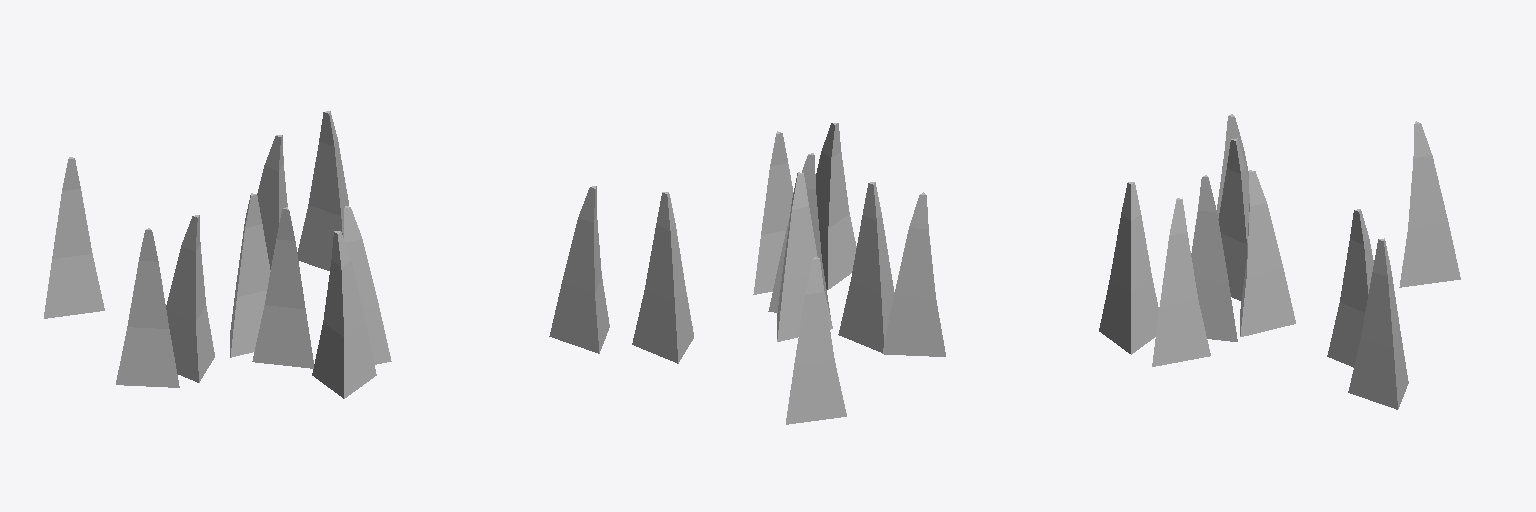
File: scene_leaves2.obj
3 views of the same model, side by side, from view 1: azimuth 30°, elevation 25°; view 2: azimuth 150°, elevation 25°; view 3: azimuth 270°, elevation 25° (orthographic).
Parts seen in each view (by area): view 1: Cylinder.010, Cylinder.003, Cylinder.008, Cylinder.006, Cylinder.005, Cylinder.004, Cylinder.007, Cylinder.009, Cylinder.002; view 2: Cylinder.002, Cylinder.003, Cylinder.004, Cylinder.006, Cylinder.005, Cylinder.010, Cylinder.007, Cylinder.009, Cylinder.008; view 3: Cylinder.010, Cylinder.004, Cylinder.006, Cylinder.009, Cylinder.007, Cylinder.008, Cylinder.002, Cylinder.005, Cylinder.003.
Part boxes in pixels (x1,y1,x2,y2): Cylinder.010: (312, 231, 376, 398); Cylinder.003: (116, 228, 179, 387); Cylinder.008: (252, 207, 313, 368); Cylinder.006: (44, 157, 104, 318); Cylinder.005: (166, 215, 214, 382); Cylinder.004: (297, 111, 348, 270); Cylinder.007: (230, 193, 270, 357); Cylinder.009: (344, 206, 391, 364); Cylinder.002: (257, 135, 287, 269); Cylinder.002: (632, 192, 693, 363); Cylinder.003: (882, 192, 945, 356); Cylinder.004: (549, 186, 609, 353); Cylinder.006: (786, 257, 846, 424); Cylinder.005: (838, 182, 894, 352); Cylinder.010: (816, 123, 856, 289); Cylinder.007: (777, 172, 832, 341); Cylinder.009: (753, 131, 793, 294); Cylinder.008: (768, 153, 830, 316); Cylinder.010: (1099, 182, 1158, 354); Cylinder.004: (1348, 238, 1408, 409); Cylinder.006: (1399, 121, 1460, 287); Cylinder.009: (1152, 198, 1210, 366); Cylinder.007: (1240, 170, 1295, 336); Cylinder.008: (1191, 175, 1237, 341); Cylinder.002: (1327, 209, 1373, 367); Cylinder.005: (1218, 138, 1249, 300); Cylinder.003: (1217, 114, 1248, 218).
Bounding box in the file's own units: 2.23 × 1.02 × 2.2.